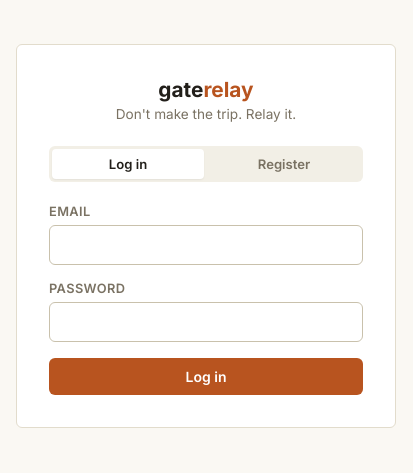
Scenario: AuthPage › shows the server's error message on a failed login, and doesn't crash
In the field labelled "Email": point(206, 245) [49,225,363,265], type "alice@example.com"
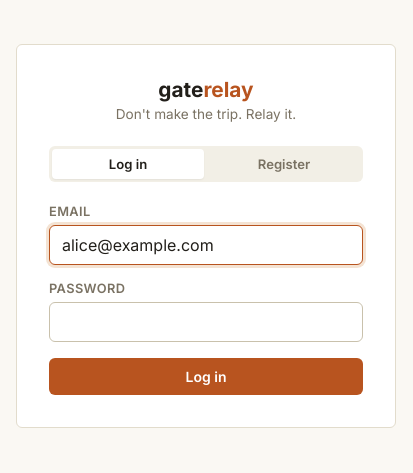
In the password field labelled "Password": point(206, 322) [49,302,363,342], type "wrongpassword"
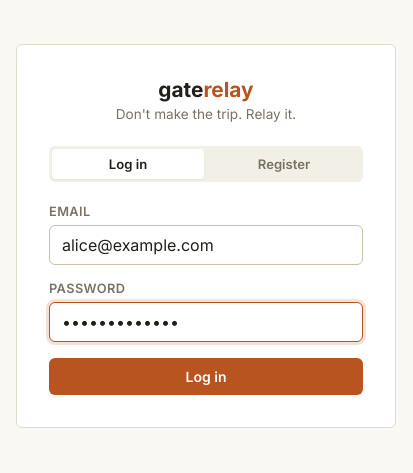
Click the button "Log in" below "Password": point(206, 376) [49,358,363,395]
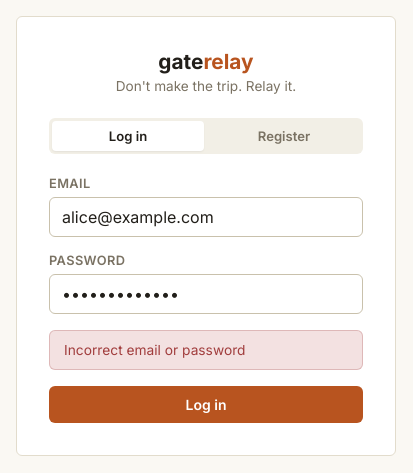
Now the text "Incorrect email or password" is shown, box [49,330,363,370]
